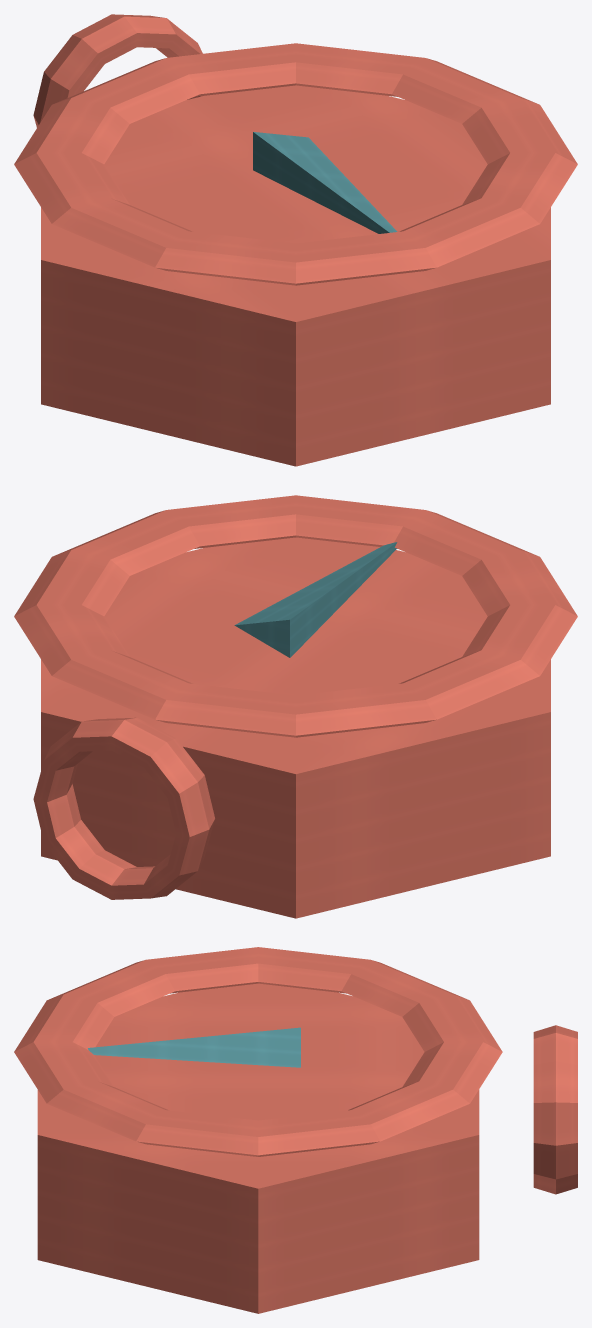
The model's file is atlas100-s077-a05.lod2.glb.
3 views of the same model, one above another, from view 1: azimuth 30°, elevation 25°; view 2: azimuth 150°, elevation 25°; view 3: azimuth 270°, elevation 25° (orthographic). The views are drawn at different scales.
Parts seen in each view (by area): view 1: atlas100-s077-a05:part-000, atlas100-s077-a05:part-003, atlas100-s077-a05:part-004, atlas100-s077-a05:part-002; view 2: atlas100-s077-a05:part-000, atlas100-s077-a05:part-003, atlas100-s077-a05:part-004, atlas100-s077-a05:part-002; view 3: atlas100-s077-a05:part-000, atlas100-s077-a05:part-003, atlas100-s077-a05:part-004, atlas100-s077-a05:part-002.
Boxes of the visible parts, x1,y1,x2,y2 form: atlas100-s077-a05:part-000: (41,85,550,466); atlas100-s077-a05:part-003: (14,43,577,285); atlas100-s077-a05:part-004: (33,14,202,127); atlas100-s077-a05:part-002: (253,132,397,233); atlas100-s077-a05:part-000: (41,537,550,918); atlas100-s077-a05:part-003: (14,495,577,737); atlas100-s077-a05:part-004: (33,717,215,899); atlas100-s077-a05:part-002: (234,542,397,657); atlas100-s077-a05:part-000: (37,983,479,1313); atlas100-s077-a05:part-003: (14,947,502,1156); atlas100-s077-a05:part-004: (533,1025,577,1194); atlas100-s077-a05:part-002: (88,1027,300,1067).
Bounding box in the file's own units: 0.5242 × 0.1966 × 0.5796.
2 materials, 2 textured.
